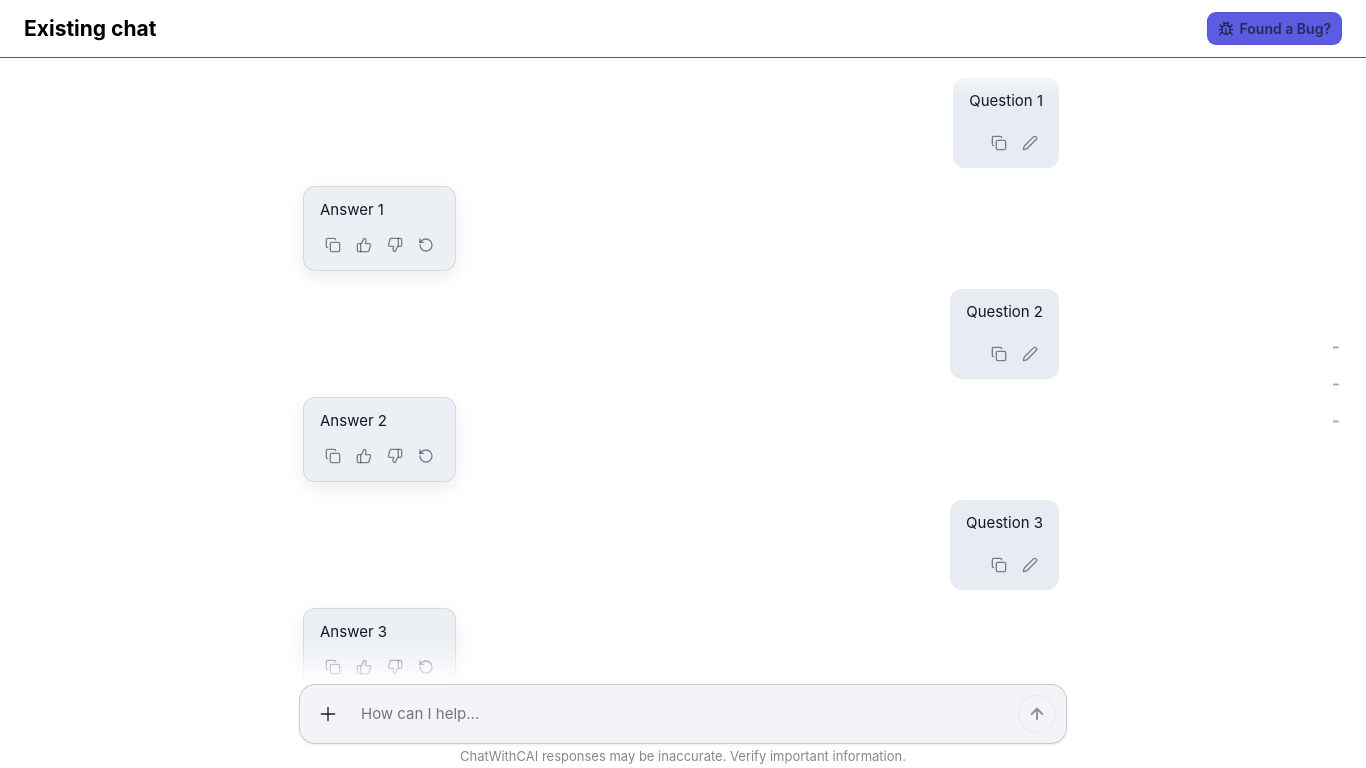
Scenario: chat message sending › keeps a persisted partial response when the final event is missing
Expected: the text "Answer 3" is shown, x1=320 y1=622 x2=387 y2=640
Type "Test a dropped final event" into the text box.
click(678, 714); type("Test a dropped final event")  # box x1=355 y1=704 x2=1000 y2=724
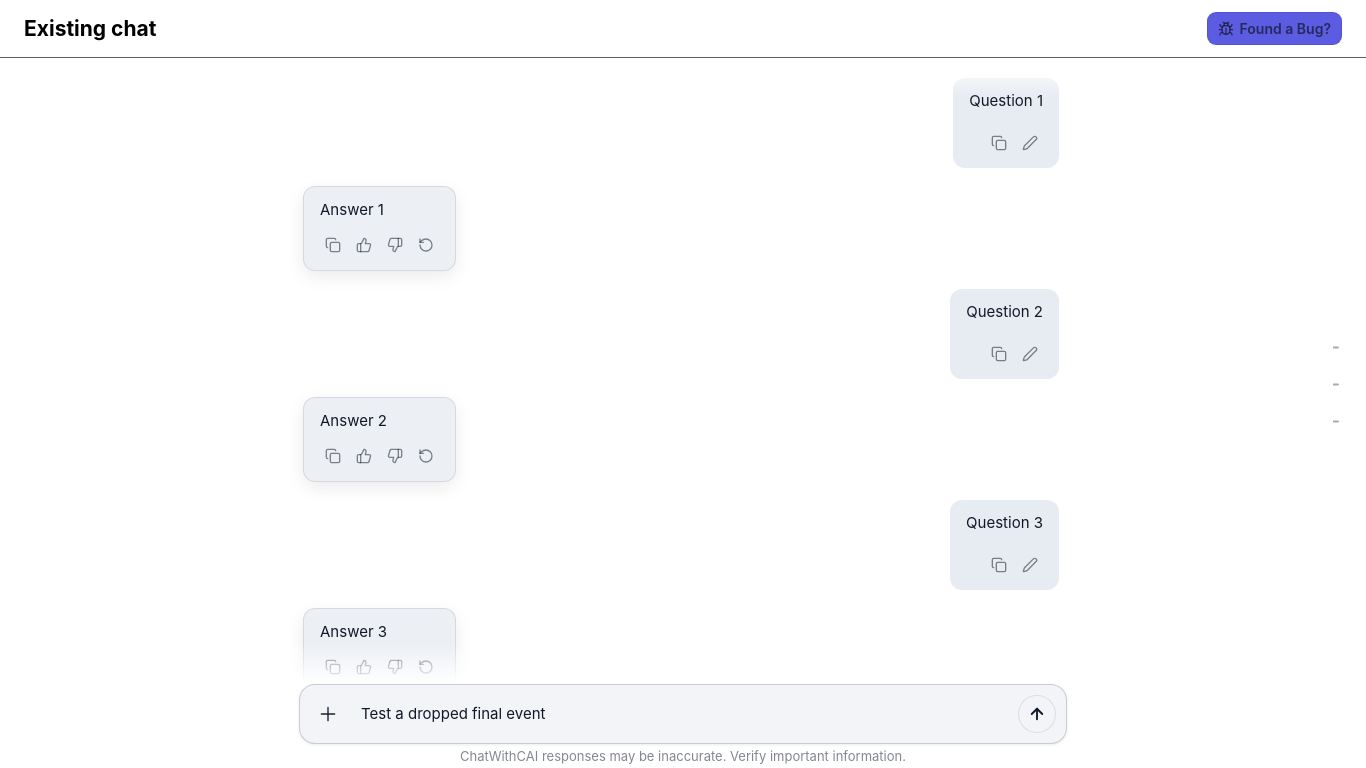
Click the button named "Send message".
click(1037, 714)  # box x1=1018 y1=695 x2=1056 y2=733
(page scrolled)
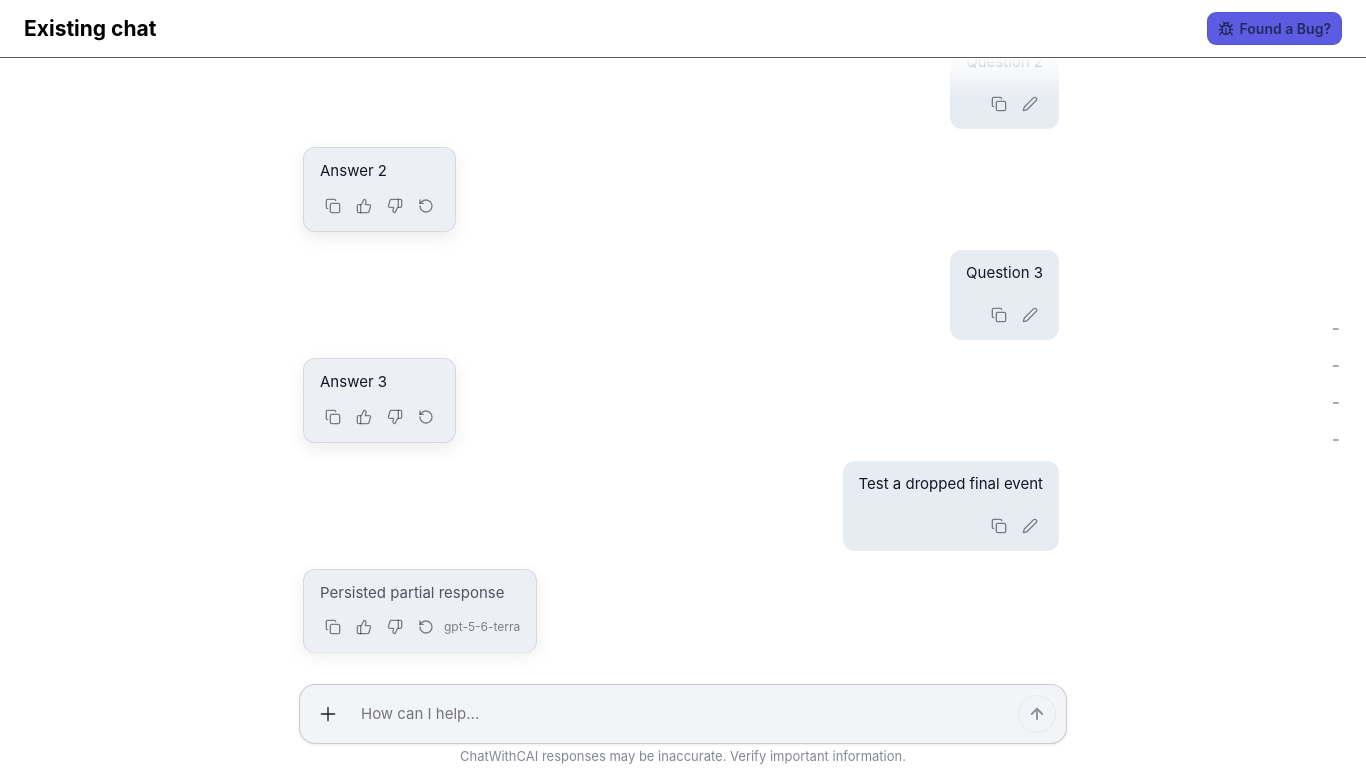
Expected: the text "Persisted partial response" is shown, x1=320 y1=582 x2=520 y2=603
